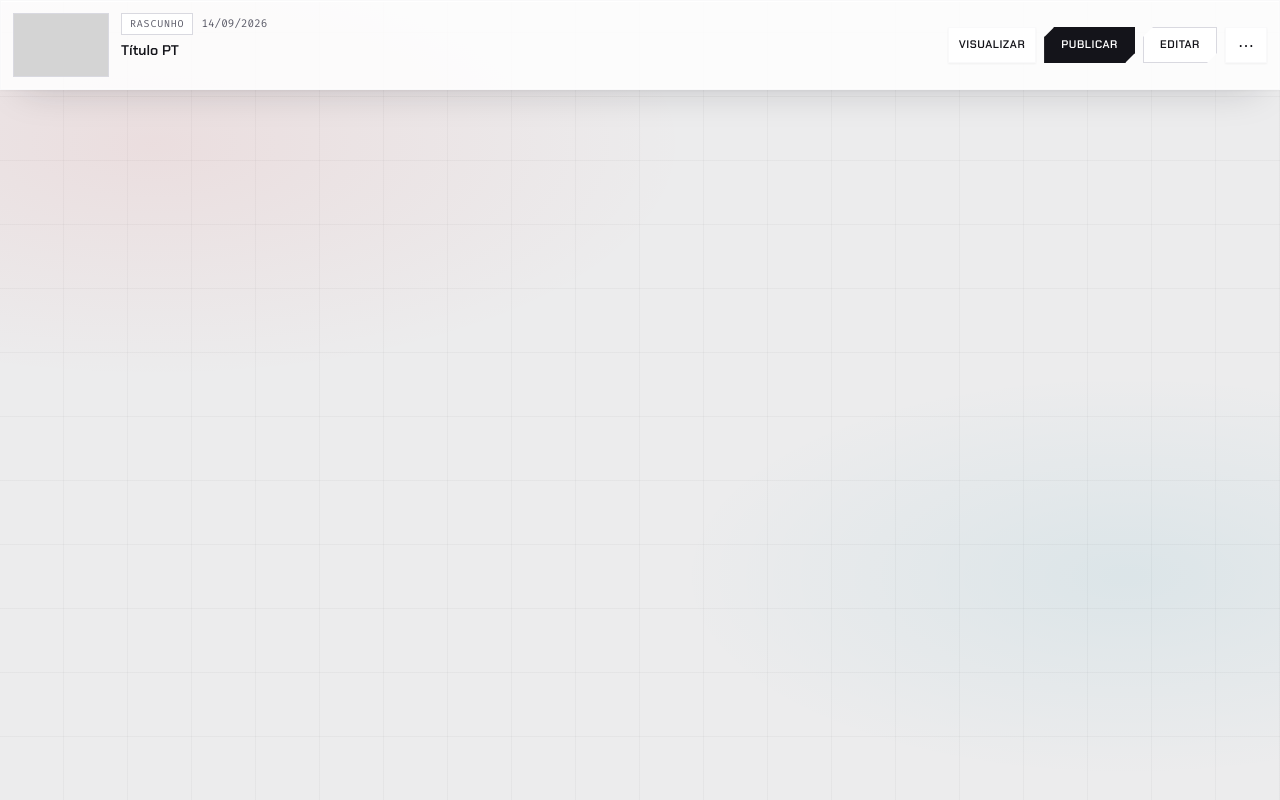
Scenario: menu "mais ações" › excluir avisa qual post e fecha o menu
Click the button named "mais ações" at (1246, 45), box [1225,27,1267,63]
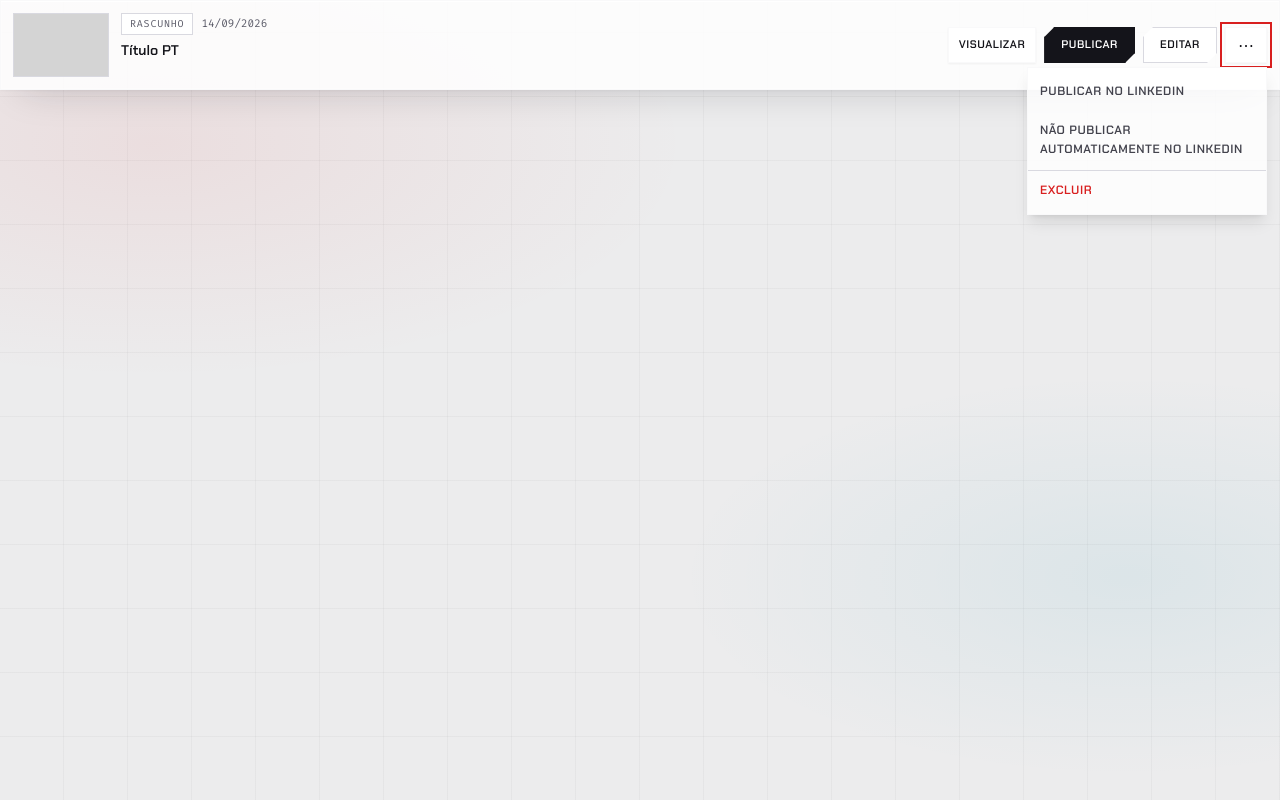
Click the menu item "excluir" at (1147, 190), box [1028,170,1266,210]
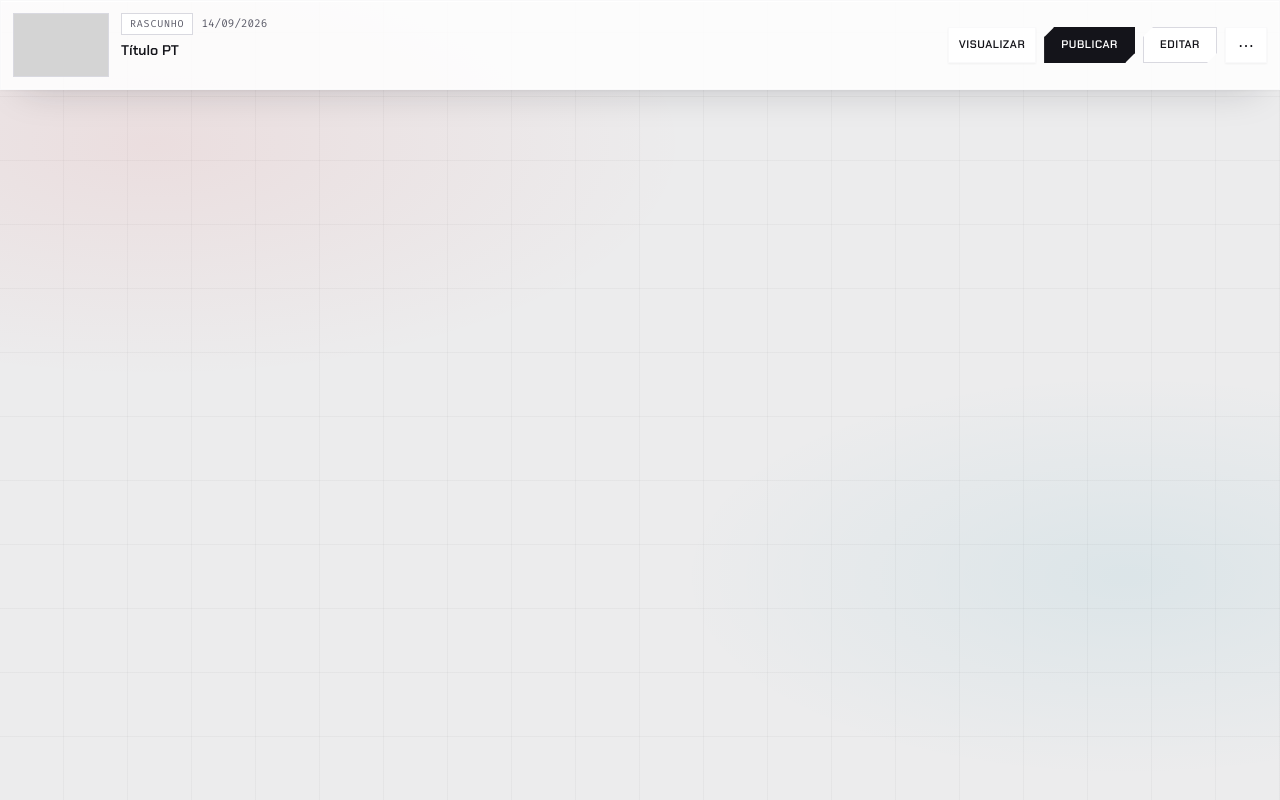
Expected: the menu is gone
